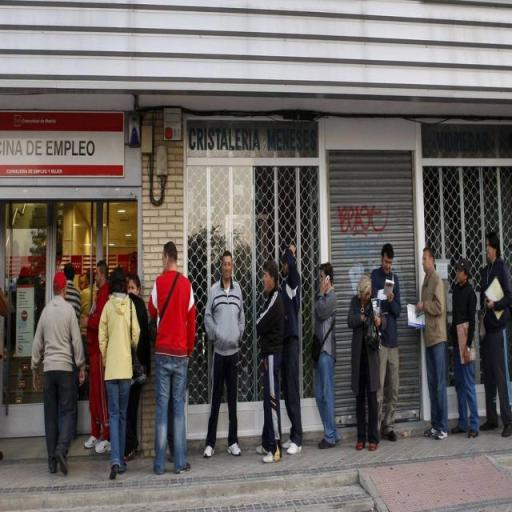person: (32, 265, 84, 477), (152, 245, 195, 476), (101, 268, 144, 484), (208, 253, 245, 456), (87, 262, 120, 461), (370, 246, 402, 439), (311, 263, 344, 448), (420, 246, 451, 442), (480, 246, 512, 434), (256, 263, 285, 464), (451, 257, 481, 439), (351, 279, 382, 453), (281, 247, 305, 454), (128, 280, 153, 465), (59, 268, 84, 447)
